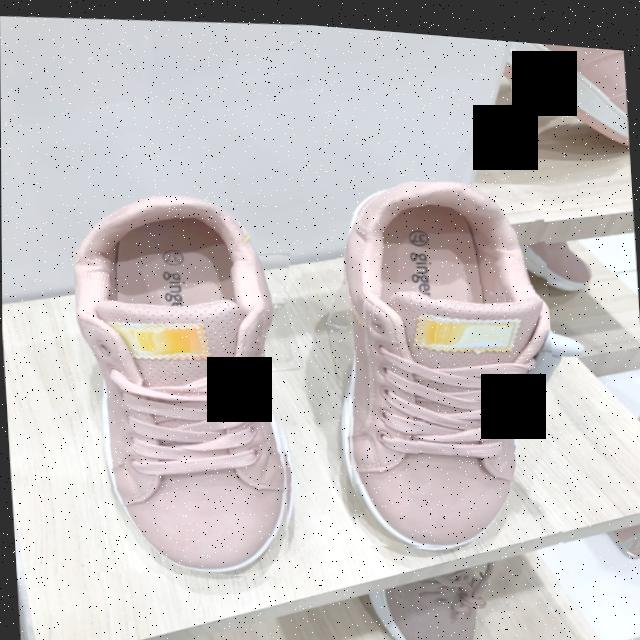shoe: (74, 194, 287, 572), (342, 175, 550, 540)
